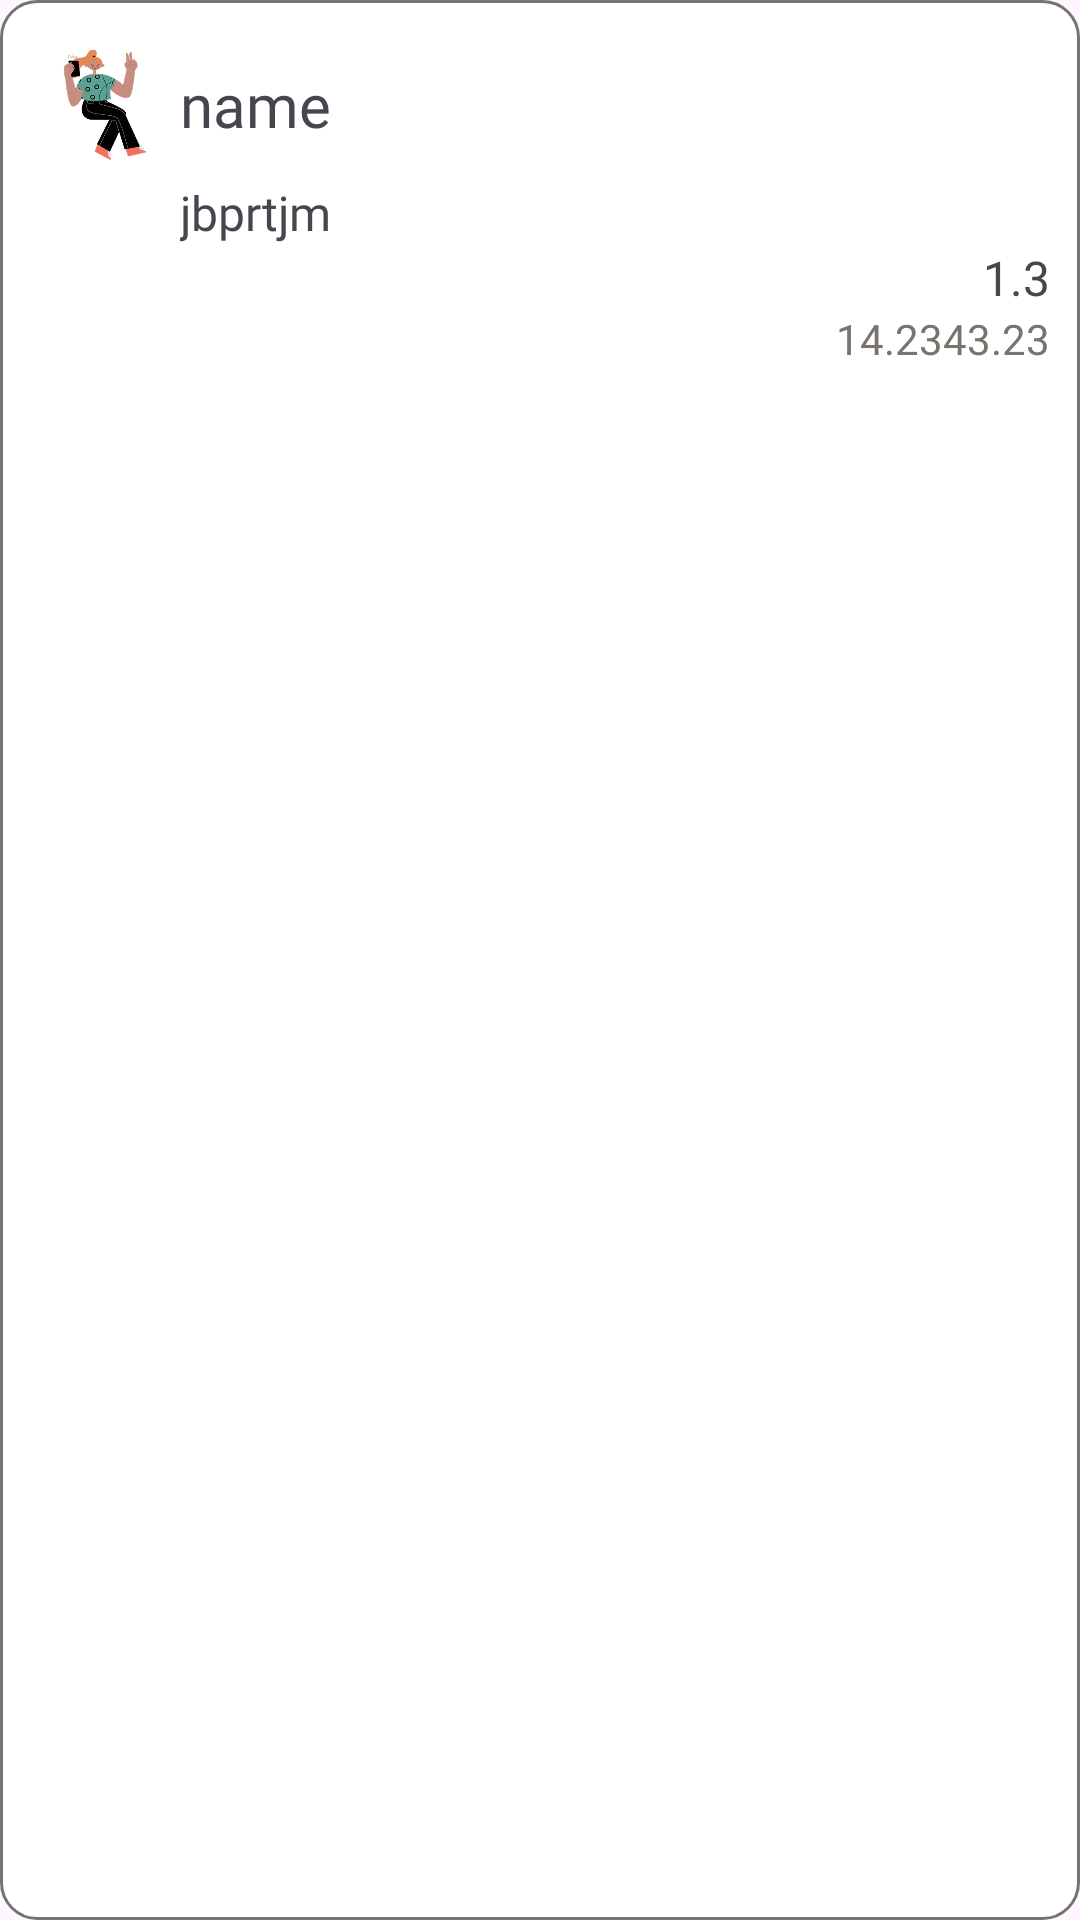

Locate icon controls on the screen. Image size 1080px x 1920px, boxes as [left=x1, top=y1, right=x2, bottom=y2].
illustration: [left=64, top=50, right=146, bottom=160]
